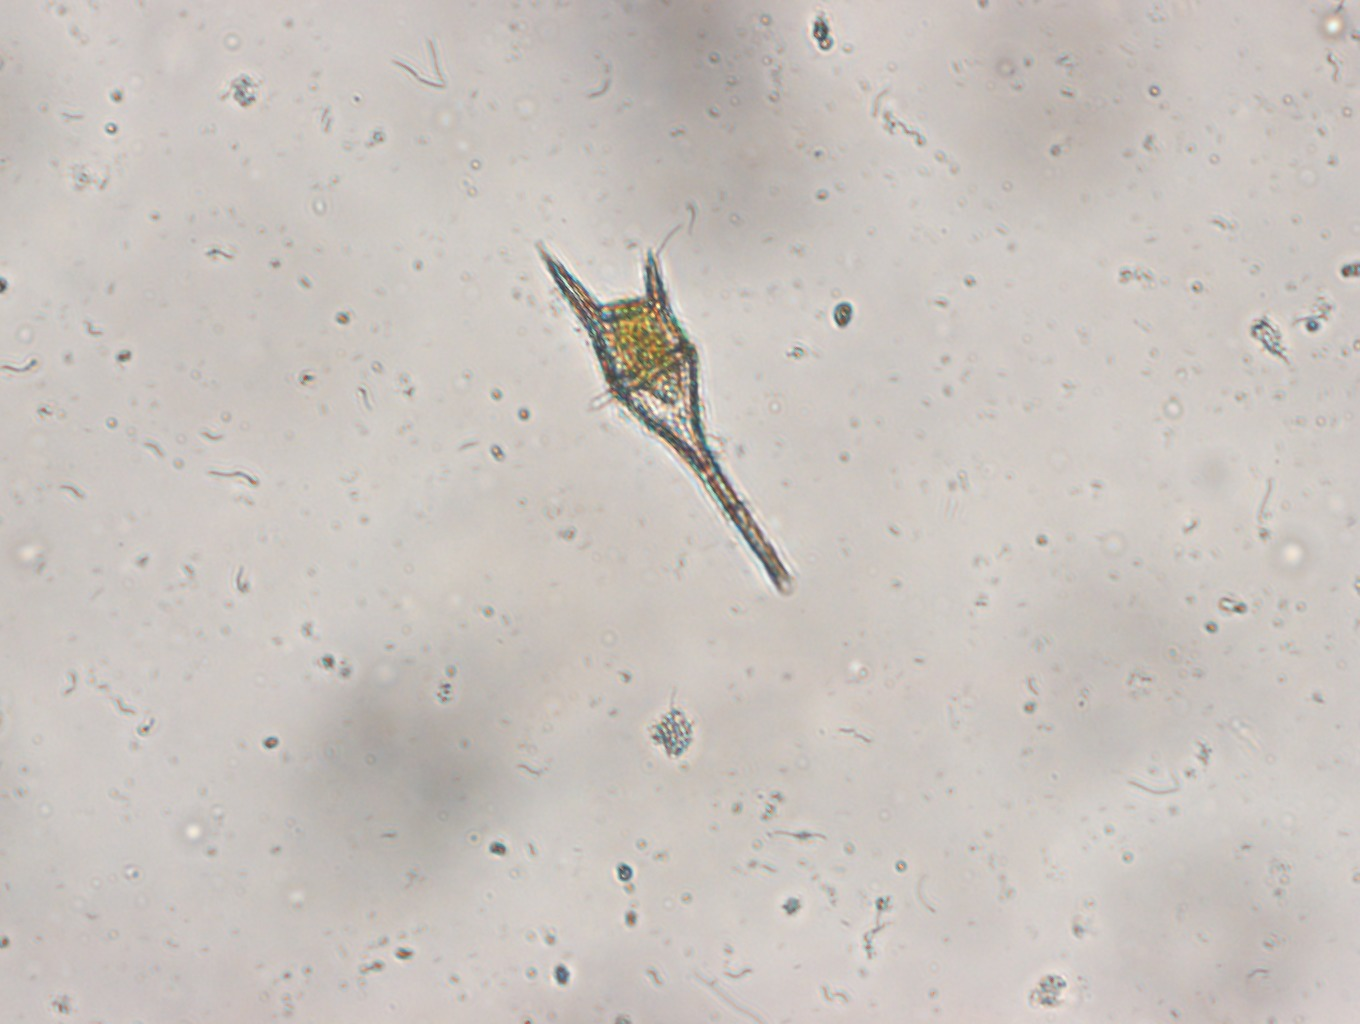ceratium furca: (526, 234, 798, 602)
